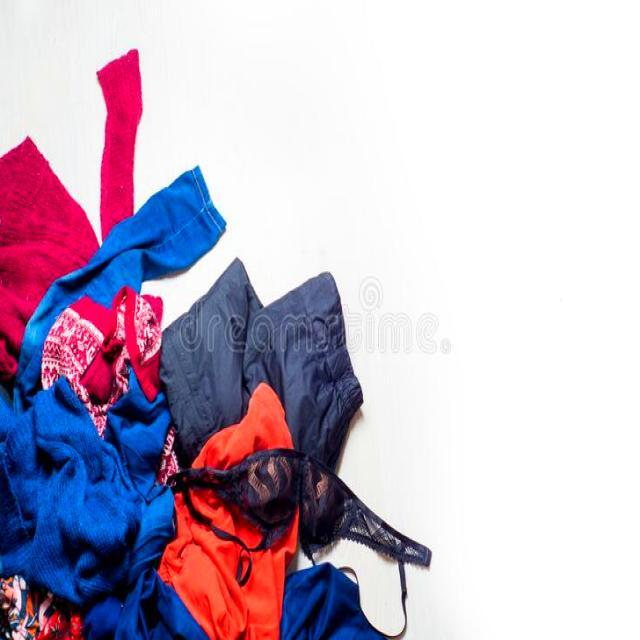clothes: (4, 248, 230, 441)
